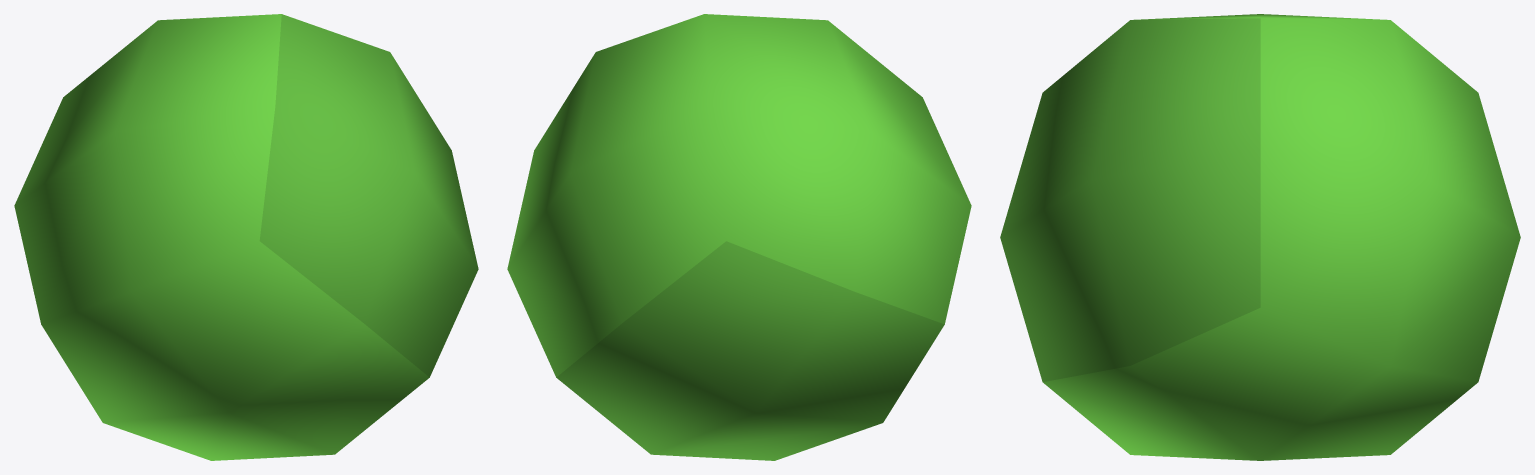
Rendered from bulletG.fbx.
3 renders of one model, left to right at view 1: azimuth 30°, elevation 25°; view 2: azimuth 150°, elevation 25°; view 3: azimuth 270°, elevation 25°, orthographic. The views are drawn at different scales.
Visible parts, largest first — view 1: Cube; view 2: Cube; view 3: Cube.
Part boxes in pixels (box(x1,y1,x2,y2)): Cube: box(14, 14, 478, 460); Cube: box(507, 14, 971, 460); Cube: box(1000, 14, 1520, 460).
Bounding box in the file's own units: 1.88 × 1.88 × 1.86.
1 material, 1 textured.
